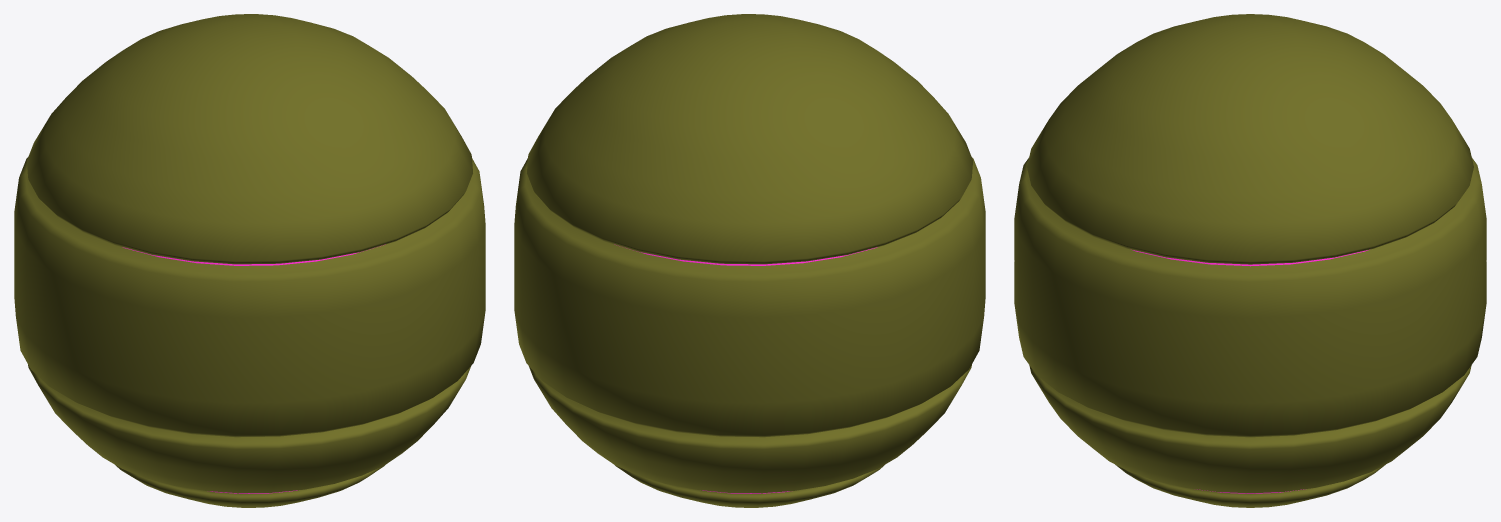
File: deathorb_cut1.fbx
3 renders of one model, left to right at view 1: azimuth 30°, elevation 25°; view 2: azimuth 150°, elevation 25°; view 3: azimuth 270°, elevation 25°, orthographic.
Visible parts, largest first — view 1: Sphere, Sphere.001; view 2: Sphere, Sphere.001; view 3: Sphere, Sphere.001.
Part boxes in pixels (box(x1,y1,x2,y2)): Sphere: box(14, 14, 485, 493); Sphere.001: box(115, 465, 384, 507); Sphere: box(514, 14, 985, 493); Sphere.001: box(615, 465, 884, 507); Sphere: box(1014, 14, 1486, 493); Sphere.001: box(1115, 464, 1385, 507).
Size of the model in its own units: 191 by 192 by 191.
